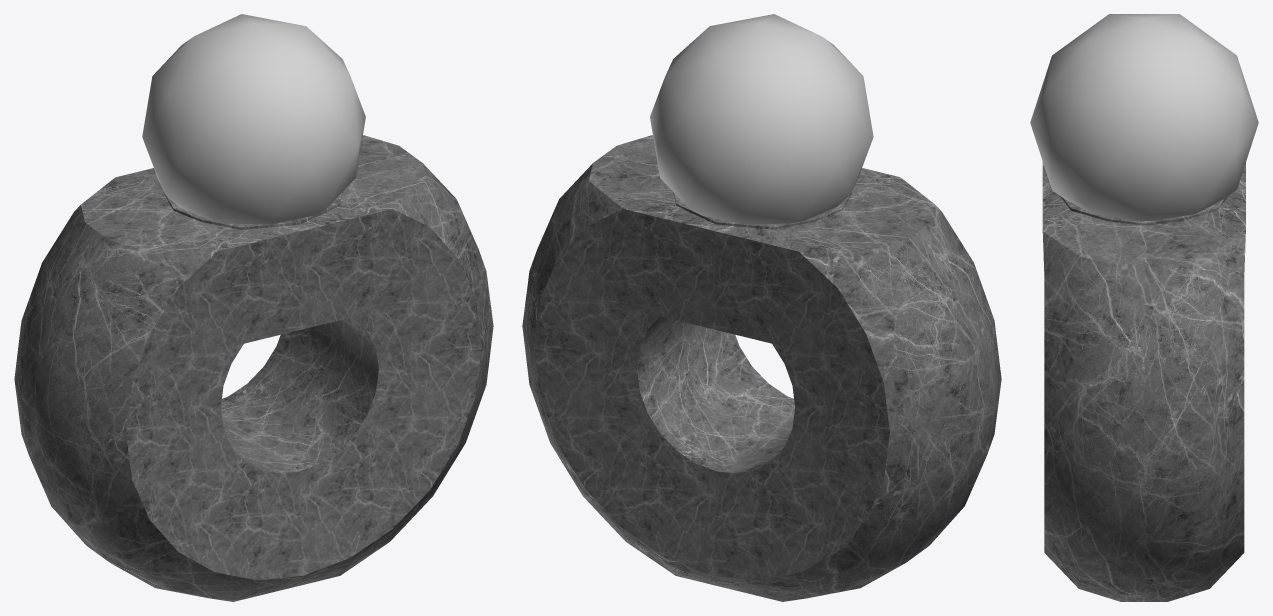
The model's file is D_Light_302.fbx.
3 renders of one model, left to right at view 1: azimuth 30°, elevation 25°; view 2: azimuth 150°, elevation 25°; view 3: azimuth 270°, elevation 25°, orthographic.
Visible parts, largest first — view 1: D_Light_302; view 2: D_Light_302; view 3: D_Light_302.
Part boxes in pixels (x1,y1,x2,y2): D_Light_302: (14, 14, 493, 601); D_Light_302: (522, 14, 1001, 601); D_Light_302: (1030, 14, 1258, 601).
Size of the model in its own units: 0.4 by 0.4784 by 0.1795.
